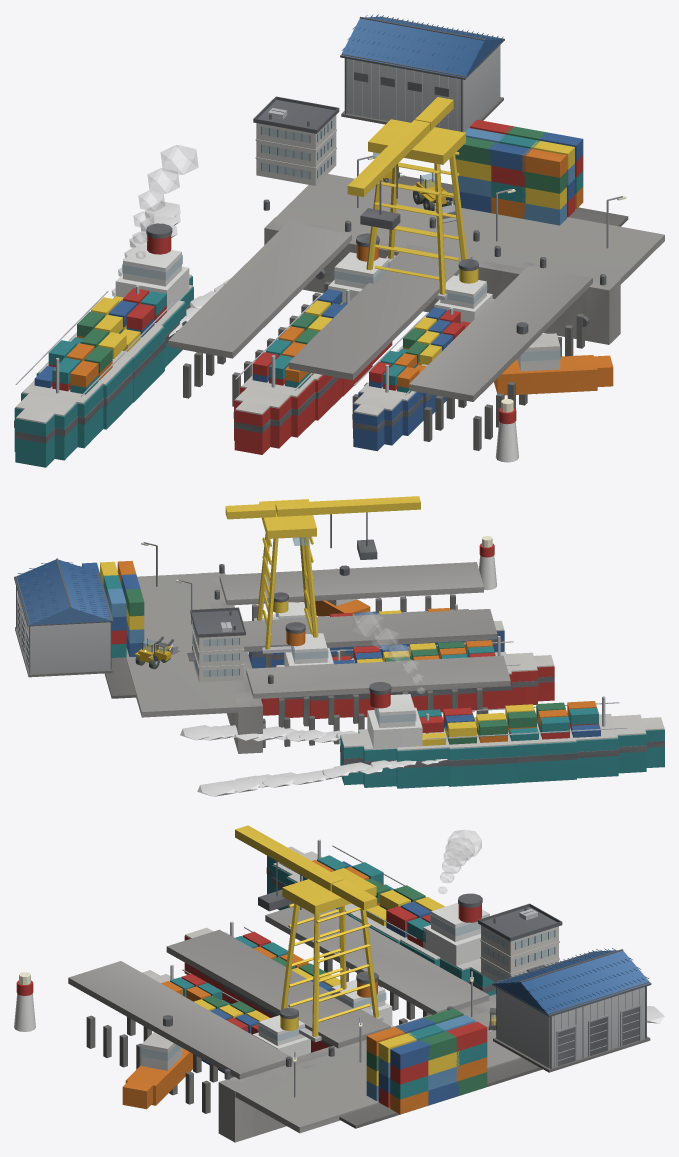
The model's file is Port_P3.fbx.
3 renders of one model, top to bottom at view 1: azimuth 30°, elevation 25°; view 2: azimuth 150°, elevation 25°; view 3: azimuth 270°, elevation 25°, orthographic. The views are drawn at different scales.
Parts seen in each view (by area): view 1: Port.ShipOut, Port.Apron, Port.Shed, Port.Pier2, Port.Pier0, Port.Ship0, Port.Containers, Port.Ship1, Port.Crane0, Port.Pier1, Port.Control, Port.QuayWall (+5 smaller); view 2: Port.ShipOut, Port.Apron, Port.Ship0, Port.Shed, Port.Pier0, Port.Pier2, Port.Crane0, Port.Pier1, Port.Wake, Port.Control, Port.Containers, Port.QuayWall (+5 smaller); view 3: Port.Shed, Port.Pier2, Port.Containers, Port.Apron, Port.ShipOut, Port.Crane0, Port.Pier1, Port.Pier0, Port.Control, Port.Ship1, Port.Ship0, Port.QuayWall (+3 smaller).
Part boxes in pixels (box(x1,y1,x2,y2)): Port.ShipOut: box(14, 223, 193, 467); Port.Apron: box(271, 174, 664, 284); Port.Shed: box(340, 14, 504, 132); Port.Pier2: box(409, 266, 592, 450); Port.Pier0: box(168, 222, 351, 406); Port.Ship0: box(233, 233, 392, 454); Port.Containers: box(453, 119, 583, 225); Port.Ship1: box(352, 259, 493, 451); Port.Crane0: box(347, 97, 467, 300); Port.Pier1: box(288, 244, 472, 427); Port.Control: box(253, 96, 339, 185); Port.QuayWall: box(264, 217, 620, 344); Port.ShipOut: box(340, 682, 664, 788); Port.Apron: box(104, 573, 249, 717); Port.Ship0: box(261, 622, 554, 718); Port.Shed: box(14, 558, 113, 677); Port.Pier0: box(246, 655, 510, 747); Port.Pier2: box(219, 562, 483, 620); Port.Crane0: box(225, 496, 420, 653); Port.Pier1: box(243, 609, 497, 667); Port.Wake: box(180, 725, 447, 796); Port.Control: box(187, 607, 245, 682); Port.Containers: box(82, 560, 144, 657); Port.QuayWall: box(200, 572, 265, 753); Port.Shed: box(492, 948, 651, 1072); Port.Pier2: box(68, 961, 292, 1113); Port.Containers: box(366, 1008, 487, 1114); Port.Apron: box(227, 1009, 542, 1133); Port.ShipOut: box(266, 839, 496, 995); Port.Crane0: box(235, 825, 383, 1042); Port.Pier1: box(166, 929, 390, 1048); Port.Pier0: box(265, 906, 489, 1024); Port.Control: box(478, 903, 562, 981); Port.Ship1: box(142, 964, 310, 1073); Port.Ship0: box(184, 921, 393, 1052); Port.QuayWall: box(218, 994, 496, 1142).
Bounding box in the file's own units: 12923 × 4118 × 11845.
